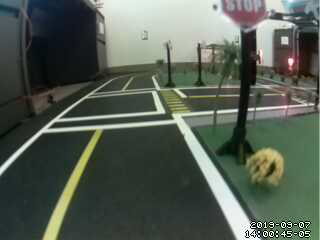Stop_Sign: (219, 1, 273, 31)
